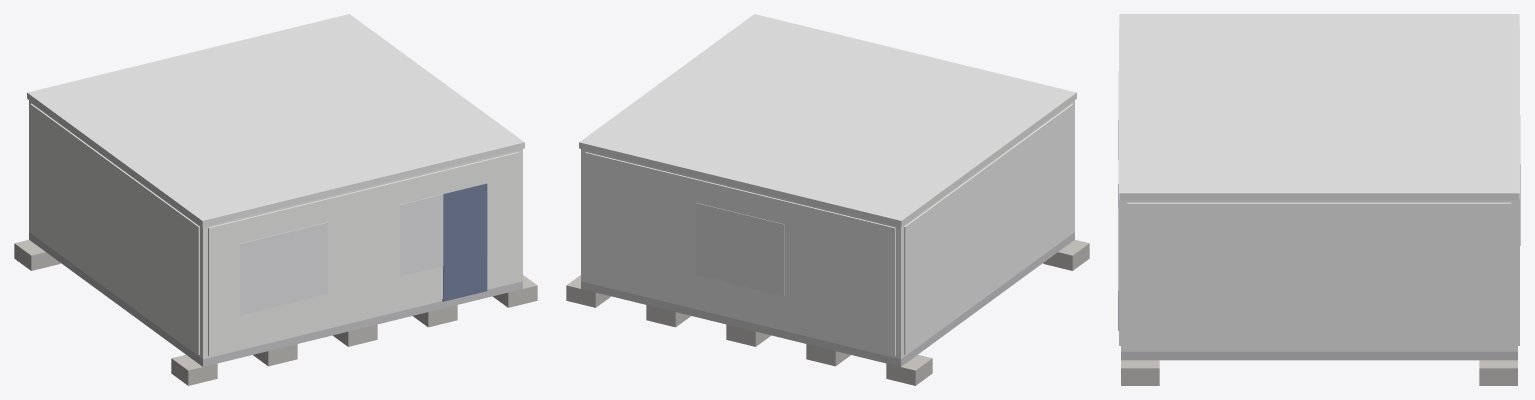
File: Studio-20-Premium-LOD2.glb
3 renders of one model, left to right at view 1: azimuth 30°, elevation 25°; view 2: azimuth 150°, elevation 25°; view 3: azimuth 270°, elevation 25°, orthographic. The views are drawn at different scales.
Visible parts, largest first — view 1: RoofMain, ExteriorPanelsPremium, WindowsLargeUpgrade, EntryDoor, FoundationBlocks, ExteriorShell, BaseFrame; view 2: RoofMain, ExteriorPanelsPremium, WindowsLargeUpgrade, FoundationBlocks, BaseFrame, ExteriorShell; view 3: RoofMain, ExteriorPanelsPremium, ExteriorShell, BaseFrame, FoundationBlocks.
Boxes of the visible parts, x1=… form: RoofMain: x1=27, y1=14, x2=524, y2=226; ExteriorPanelsPremium: x1=30, y1=103, x2=518, y2=355; WindowsLargeUpgrade: x1=240, y1=183, x2=487, y2=315; EntryDoor: x1=442, y1=183, x2=487, y2=301; FoundationBlocks: x1=14, y1=240, x2=537, y2=385; ExteriorShell: x1=29, y1=100, x2=522, y2=359; BaseFrame: x1=29, y1=232, x2=522, y2=366; RoofMain: x1=579, y1=14, x2=1076, y2=226; ExteriorPanelsPremium: x1=585, y1=103, x2=1073, y2=355; WindowsLargeUpgrade: x1=696, y1=203, x2=784, y2=295; FoundationBlocks: x1=566, y1=240, x2=1089, y2=385; BaseFrame: x1=581, y1=232, x2=1074, y2=366; ExteriorShell: x1=581, y1=100, x2=1074, y2=359; RoofMain: x1=1119, y1=14, x2=1519, y2=200; ExteriorPanelsPremium: x1=1119, y1=27, x2=1519, y2=349; ExteriorShell: x1=1121, y1=200, x2=1517, y2=351; BaseFrame: x1=1121, y1=351, x2=1517, y2=360; FoundationBlocks: x1=1121, y1=360, x2=1517, y2=385.
Size of the model in its own units: 7.14 by 3.17 by 6.24.
